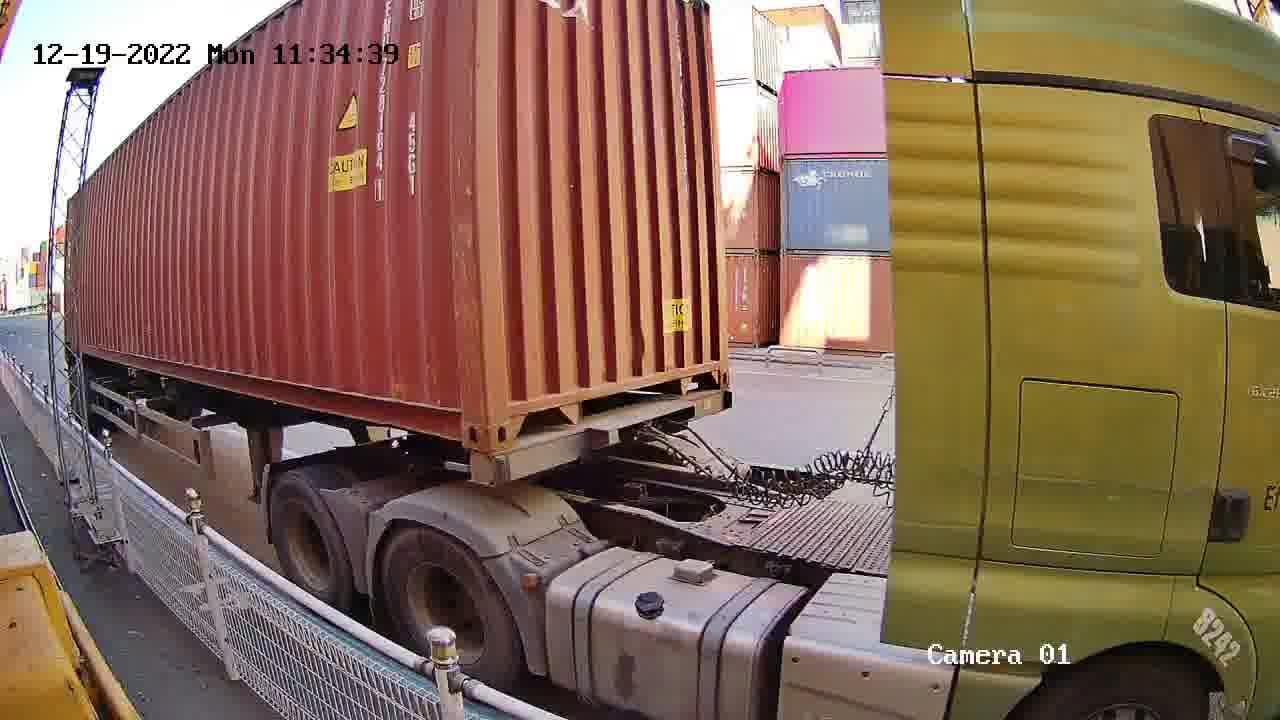Chassis: (471, 386, 732, 487)
Cone: (466, 450, 495, 485)
Hole_L: (488, 380, 545, 448)
Hole_R: (433, 390, 488, 451), (693, 349, 731, 392)
Tire: (384, 530, 507, 676), (270, 480, 347, 602)
